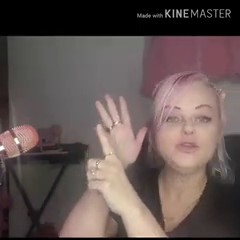U: (79, 92, 149, 214)
